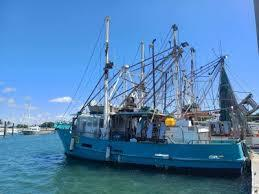Ship: (49, 11, 257, 177)
